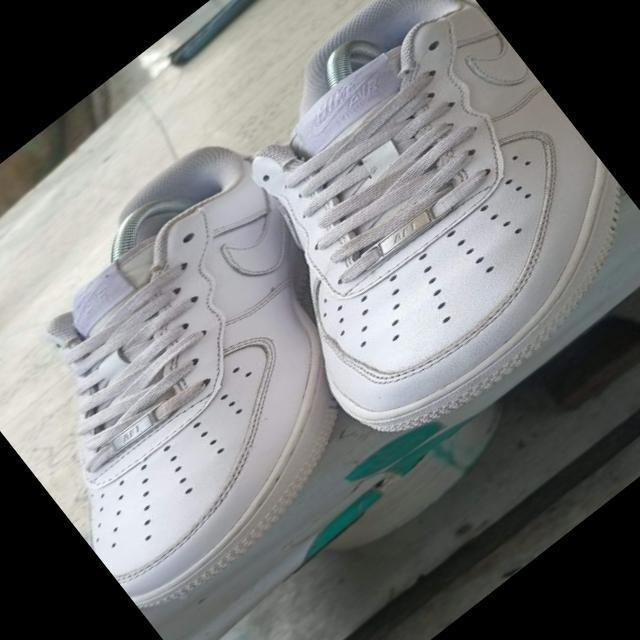nike original air force: (151, 0, 640, 474), (0, 119, 447, 627)
